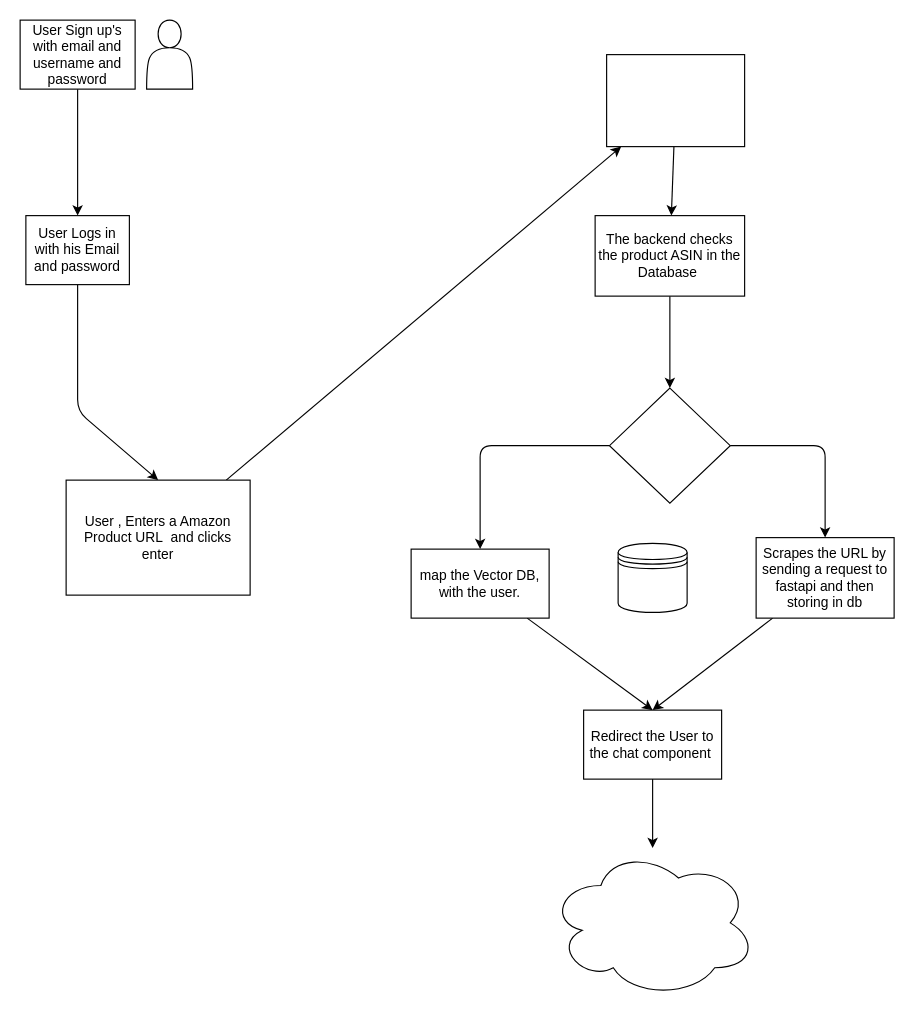
Image size: 914x1018. Some labels were removed from this diagram. Each missing label, with the centre of its shape:
Checking the ASIN for existence: the point at 669,445
manage the User Querys and replies: the point at 652,922
Product ASIN is extracted and then send to the backend: the point at 675,100
